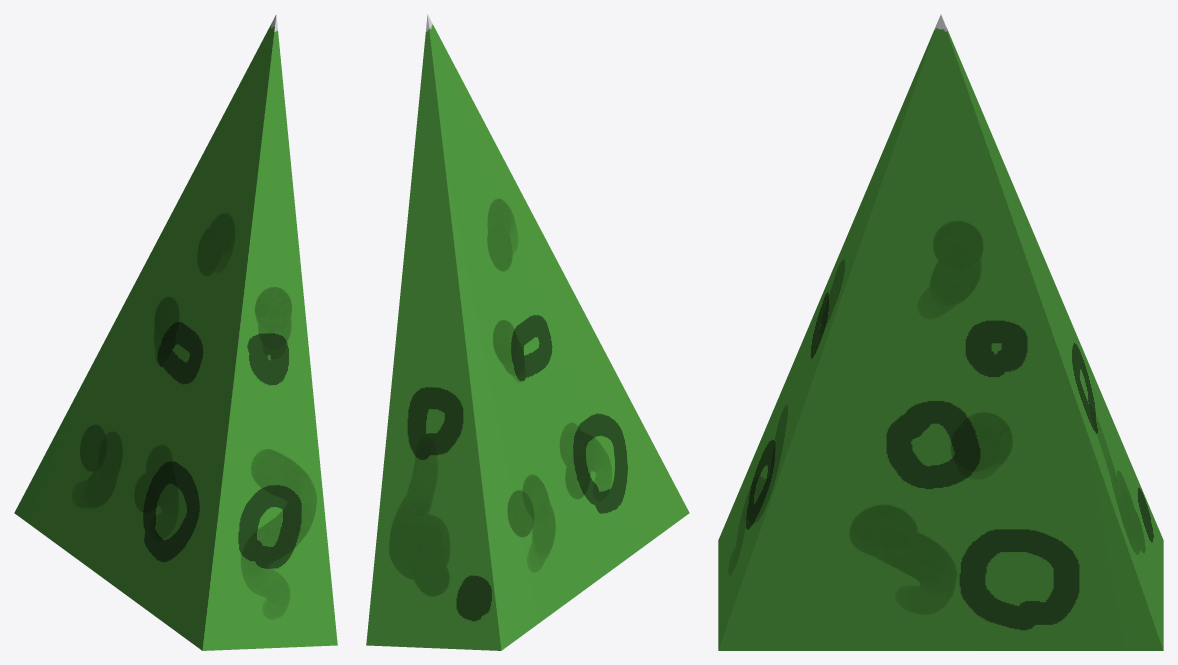
The model's file is clone_rightArm.obj.
The picture shows the model from 3 angles, left to right: view 1: azimuth 30°, elevation 25°; view 2: azimuth 150°, elevation 25°; view 3: azimuth 270°, elevation 25°; orthographic projection. The views are drawn at different scales.
Parts seen in each view (by area): view 1: rightArm; view 2: rightArm; view 3: rightArm.
Part boxes in pixels (x1,y1,x2,y2): rightArm: (14, 14, 337, 650); rightArm: (366, 14, 689, 650); rightArm: (718, 14, 1163, 650).
Size of the model in its own units: 0.1062 by 0.3349 by 0.2061.
Materials: 1 (1 with a texture image).
